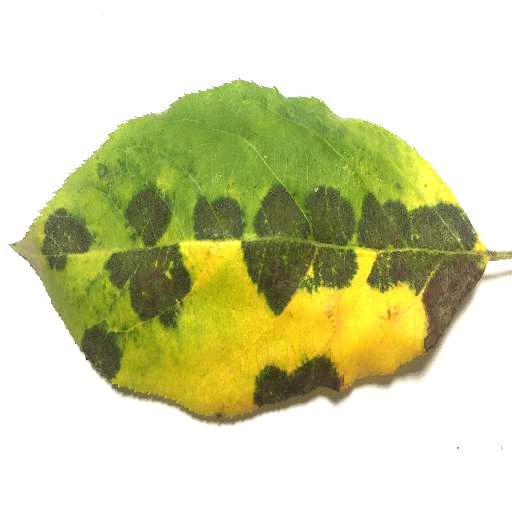Brown_Spot: (413, 262, 477, 344), (141, 268, 213, 323), (248, 246, 308, 297), (237, 364, 339, 393)
